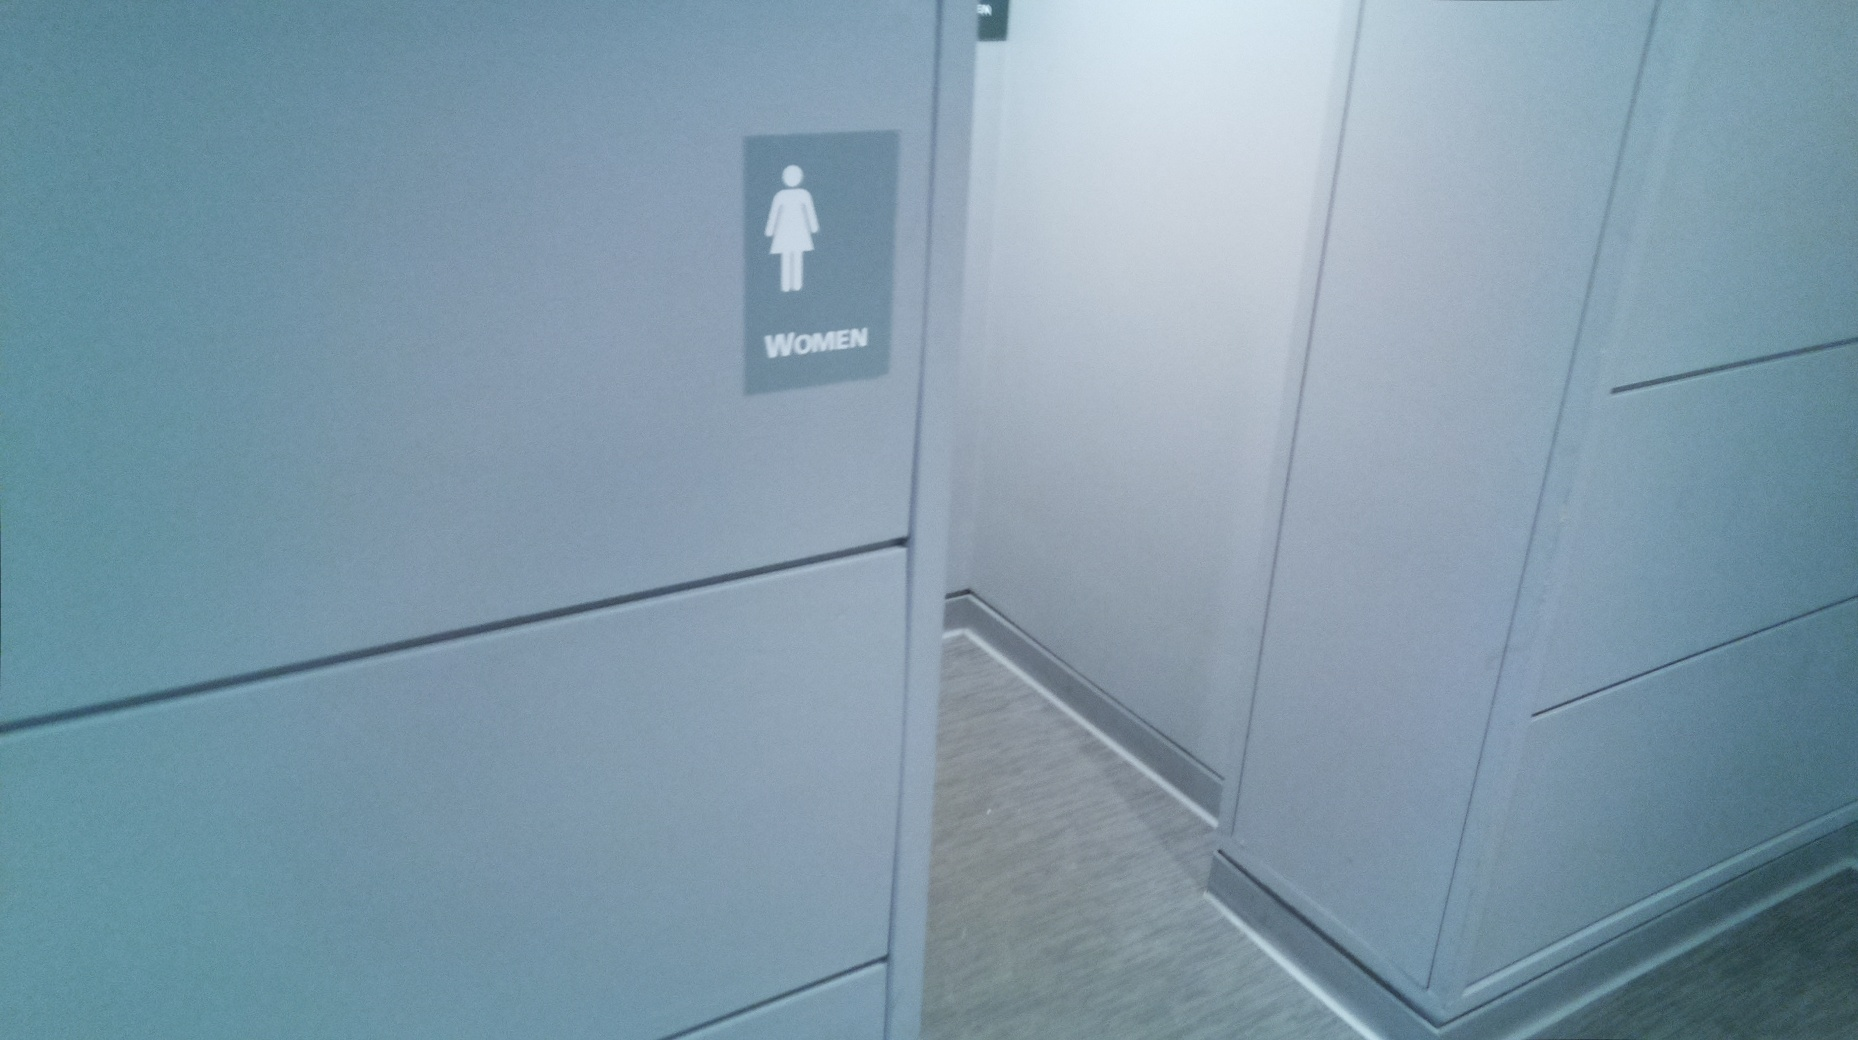bathroom sign: (735, 116, 907, 406)
